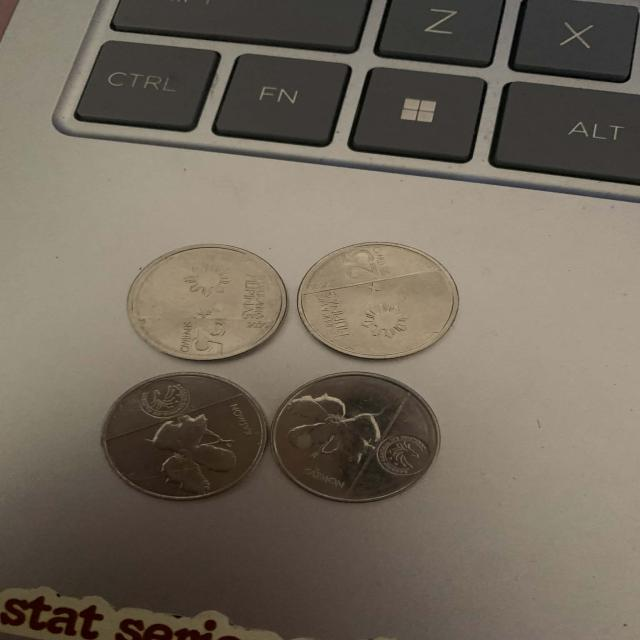25 cents: (123, 236, 294, 367), (270, 373, 441, 503), (99, 372, 266, 500), (296, 242, 460, 361)
